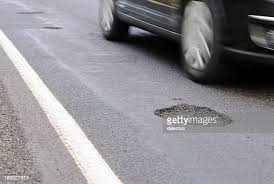potholes: (148, 95, 233, 137)
